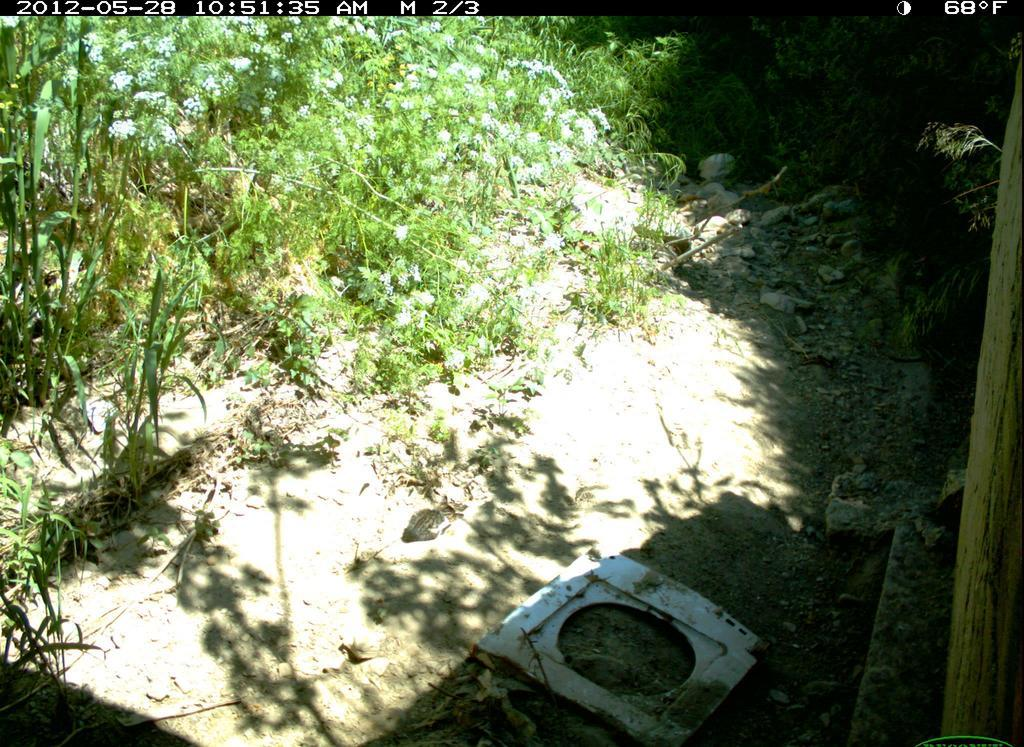cat: (404, 494, 467, 552)
